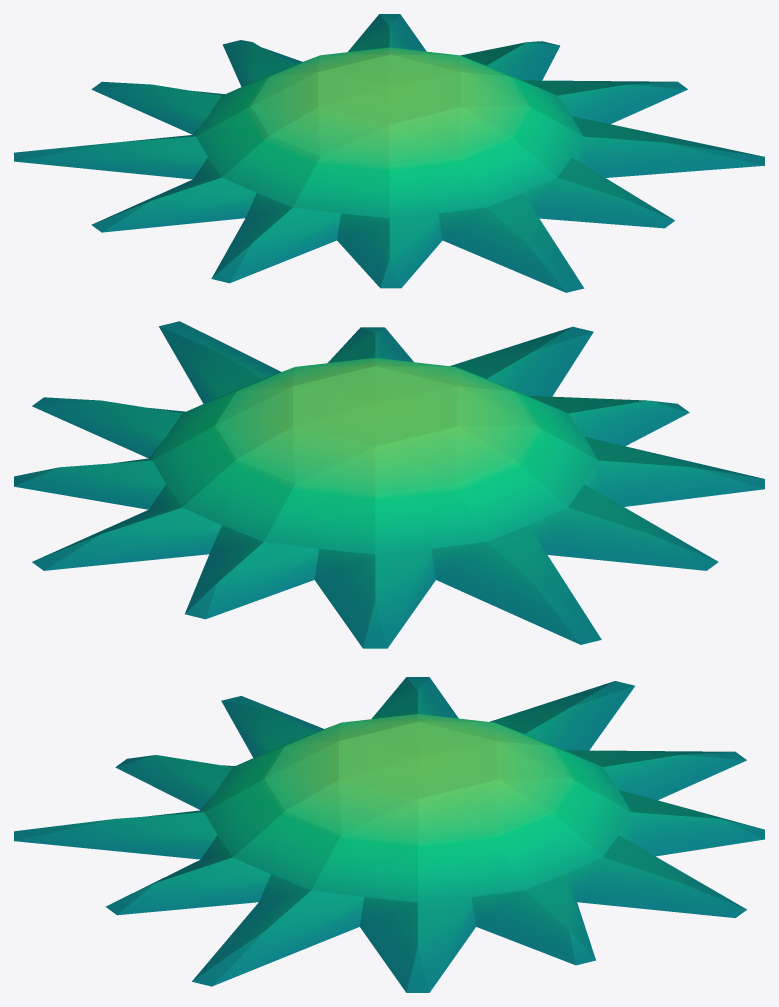
File: Starfish_3.fbx
The picture shows the model from 3 angles, top to bottom: view 1: azimuth 30°, elevation 25°; view 2: azimuth 150°, elevation 25°; view 3: azimuth 270°, elevation 25°; orthographic projection. The views are drawn at different scales.
Parts seen in each view (by area): view 1: Starfish_3; view 2: Starfish_3; view 3: Starfish_3.
Part boxes in pixels (bbox=[...]): Starfish_3: bbox=[14, 14, 764, 292]; Starfish_3: bbox=[14, 321, 764, 648]; Starfish_3: bbox=[14, 677, 764, 992].
Bounding box in the file's own units: 222 × 25.5 × 224.
